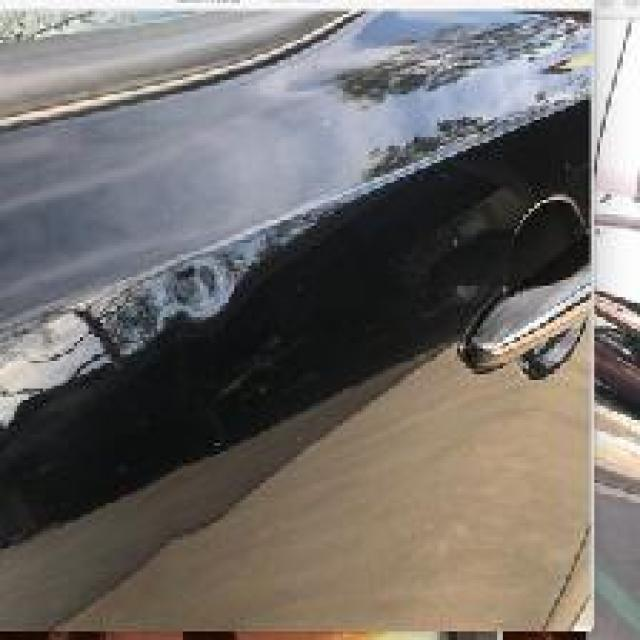damaged: (158, 252, 252, 334)
